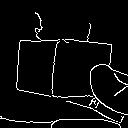cube: (13, 31, 118, 109)
